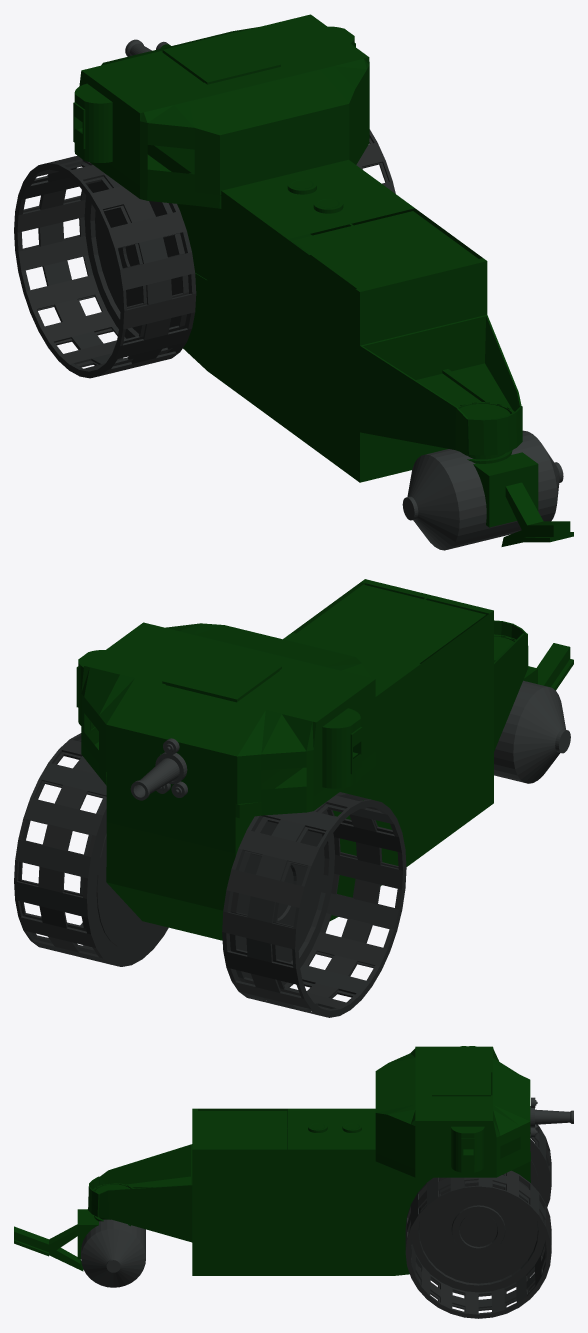
The model's file is steam_wheel_tank.glb.
The picture shows the model from 3 angles, top to bottom: view 1: azimuth 30°, elevation 25°; view 2: azimuth 150°, elevation 25°; view 3: azimuth 270°, elevation 25°; orthographic projection. The views are drawn at different scales.
Visible parts, largest first — view 1: Cube, Cube_001, Cylinder_002, Cylinder_001, Plane, Cube_003, Cube_002, Cylinder; view 2: Cylinder_002, Cube, Cube_001, Plane, Cylinder_001, Cube_002, Cube_003; view 3: Cube, Cylinder_002, Cube_001, Cylinder_001, Plane, Cube_003, Cube_002.
Part boxes in pixels (x1,y1,x2,y2): Cube: [148, 145, 522, 482]; Cube_001: [73, 14, 369, 208]; Cylinder_002: [14, 129, 395, 378]; Cylinder_001: [402, 430, 563, 550]; Plane: [292, 211, 478, 288]; Cube_003: [473, 452, 573, 546]; Cube_002: [162, 32, 280, 84]; Cylinder: [457, 401, 514, 463]; Cylinder_002: [14, 733, 406, 1017]; Cube: [106, 579, 528, 940]; Cube_001: [76, 622, 375, 818]; Plane: [296, 584, 485, 663]; Cylinder_001: [494, 680, 570, 783]; Cube_002: [162, 648, 281, 702]; Cube_003: [523, 643, 573, 690]; Cube: [88, 1108, 530, 1275]; Cylinder_002: [405, 1124, 551, 1318]; Cube_001: [375, 1046, 573, 1177]; Cylinder_001: [81, 1219, 145, 1287]; Plane: [198, 1111, 287, 1149]; Cube_003: [14, 1209, 130, 1271]; Cube_002: [432, 1071, 490, 1096].
Size of the model in its own units: 7.27 by 7.22 by 19.18.
